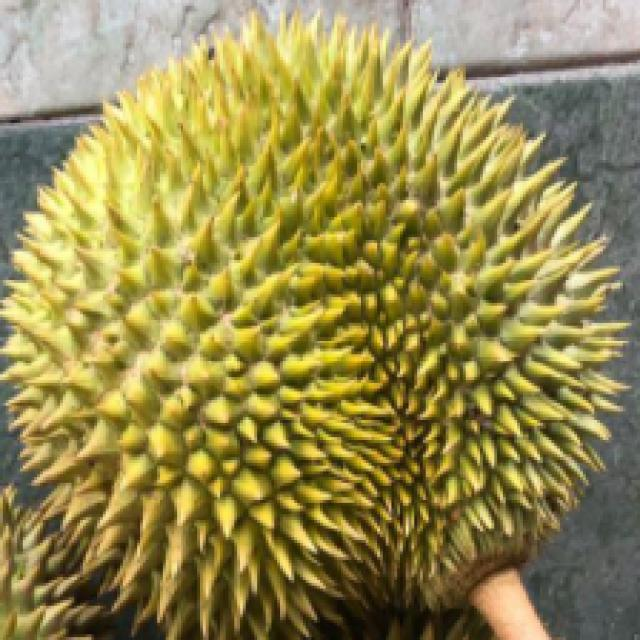d24: (22, 56, 604, 640)
